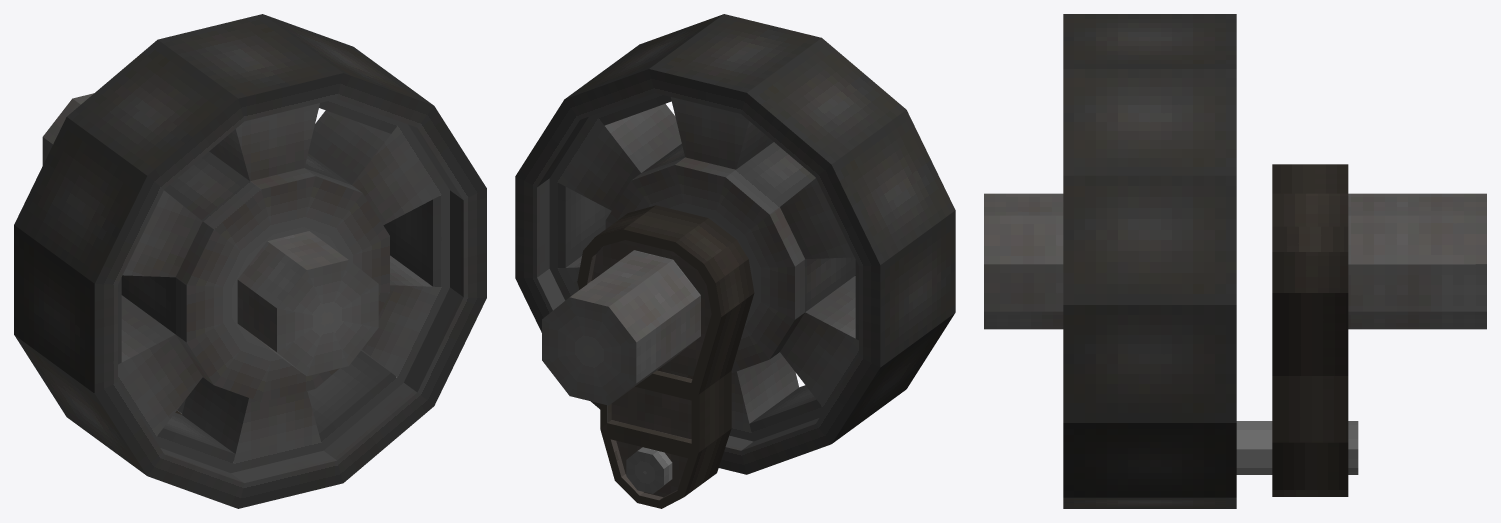
Rendered from crankshaft.obj.
The picture shows the model from 3 angles, left to right: view 1: azimuth 30°, elevation 25°; view 2: azimuth 150°, elevation 25°; view 3: azimuth 270°, elevation 25°; orthographic projection. The views are drawn at different scales.
Visible parts, largest first — view 1: маховик; view 2: маховик; view 3: маховик.
Part boxes in pixels (left/top/right/bottom): маховик: left=14, top=14, right=486, bottom=508; маховик: left=515, top=14, right=955, bottom=508; маховик: left=984, top=14, right=1486, bottom=508.
Bounding box in the file's own units: 0.9659 × 0.985 × 1.
